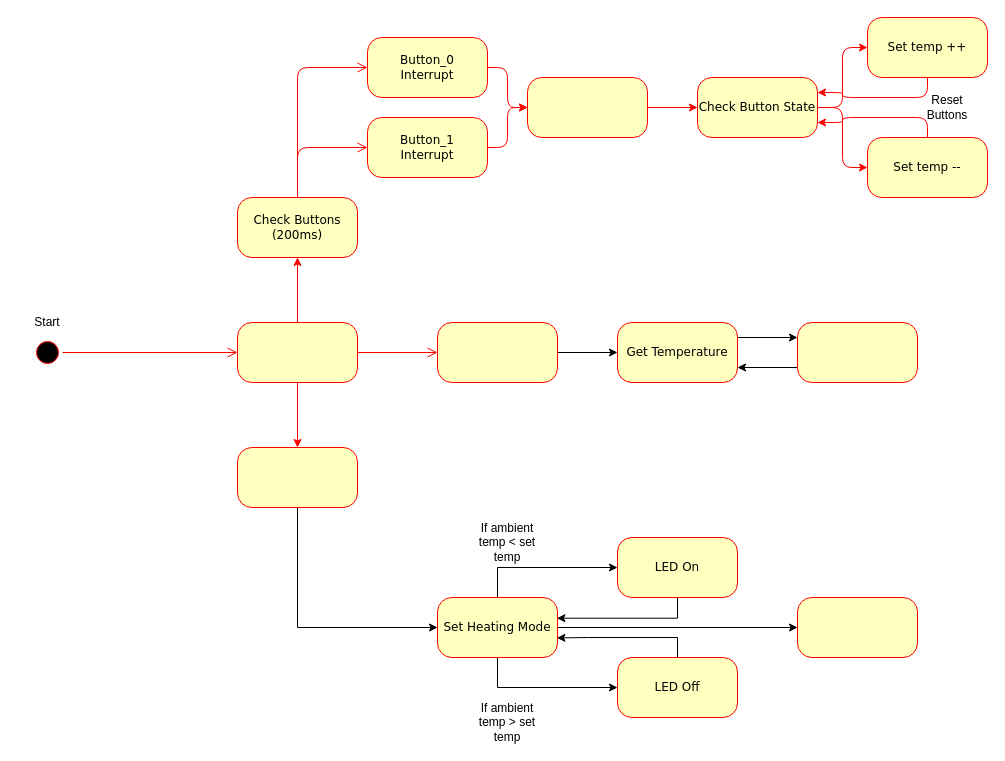
Some shapes in this 1005 by 761 pixel diagram are drawn without their labels. The box of each missing label's shape, as (x1, y1, x2, y2) in pixels:
Read Temperature (500ms): (436, 322, 558, 382)
Read Temperature From Sensor: (796, 322, 918, 382)
Set Button State: (526, 76, 648, 138)
Set Heating Mode/Update (1000ms): (236, 446, 358, 508)
Timer (100ms): (236, 322, 358, 382)
Update Server: (796, 596, 918, 658)
